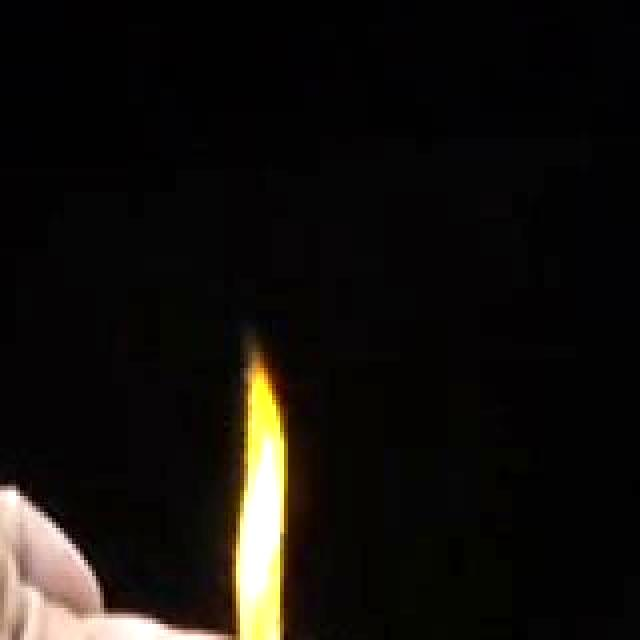fire: (212, 520, 288, 640)
